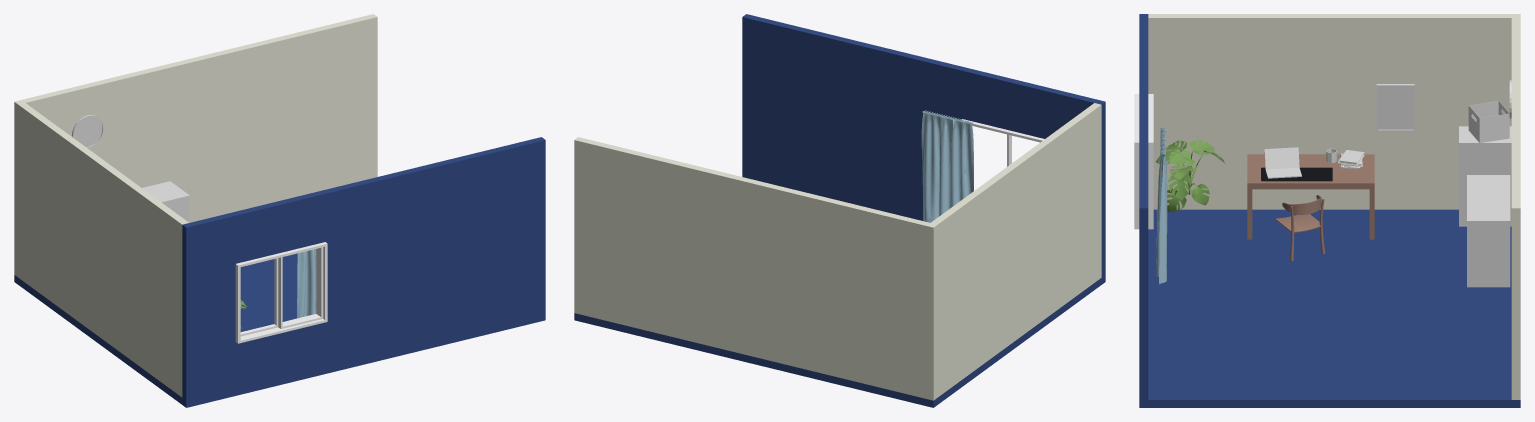
File: scene_simplified.glb
3 renders of one model, left to right at view 1: azimuth 30°, elevation 25°; view 2: azimuth 150°, elevation 25°; view 3: azimuth 270°, elevation 25°, orthographic. The views are drawn at different scales.
Visible parts, largest first — view 1: Wall, Wall.002, Wall.001, Plane.001, WindowFrame, Curtain, Cube.001, WindowPane_R, Clockface, WindowPane_L; view 2: Wall.002, Wall, Wall.001, Curtain, Plane.001; view 3: Plane.001, Wall.001, Cube.001, Wall, Wall.002, Cube, TableTop, Plant, WindowFrame, Picture, Cube.003, Curtain (+7 smaller).
Boxes of the visible parts, x1,y1,x2,y2 form: Wall: [182, 137, 545, 400]; Wall.002: [14, 14, 377, 277]; Wall.001: [18, 103, 188, 397]; Plane.001: [14, 253, 545, 407]; WindowFrame: [235, 242, 327, 343]; Curtain: [297, 249, 316, 318]; Cube.001: [142, 181, 189, 222]; WindowPane_R: [278, 247, 323, 328]; Clockface: [73, 116, 102, 147]; WindowPane_L: [240, 258, 278, 336]; Wall.002: [574, 137, 937, 400]; Wall: [742, 14, 1105, 277]; Wall.001: [931, 103, 1101, 397]; Curtain: [921, 110, 973, 222]; Plane.001: [574, 275, 1105, 407]; Plane.001: [1139, 209, 1520, 407]; Wall.001: [1148, 14, 1511, 209]; Cube.001: [1467, 175, 1510, 287]; Wall: [1139, 14, 1148, 399]; Wall.002: [1511, 14, 1520, 399]; Cube: [1459, 126, 1511, 226]; TableTop: [1247, 154, 1374, 185]; Plant: [1156, 140, 1225, 212]; WindowFrame: [1134, 94, 1153, 229]; Picture: [1378, 86, 1413, 129]; Cube.003: [1468, 101, 1509, 142]; Curtain: [1156, 128, 1167, 284].
Size of the model in its own units: 10 by 4.79 by 8.41.
